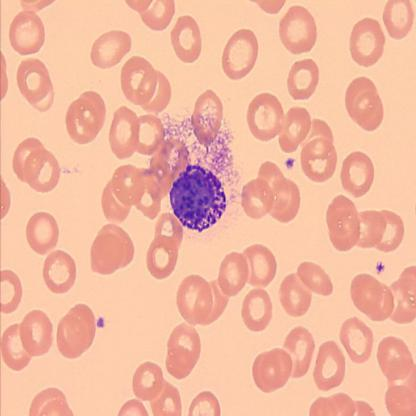Basophil: (168, 162, 228, 231)
